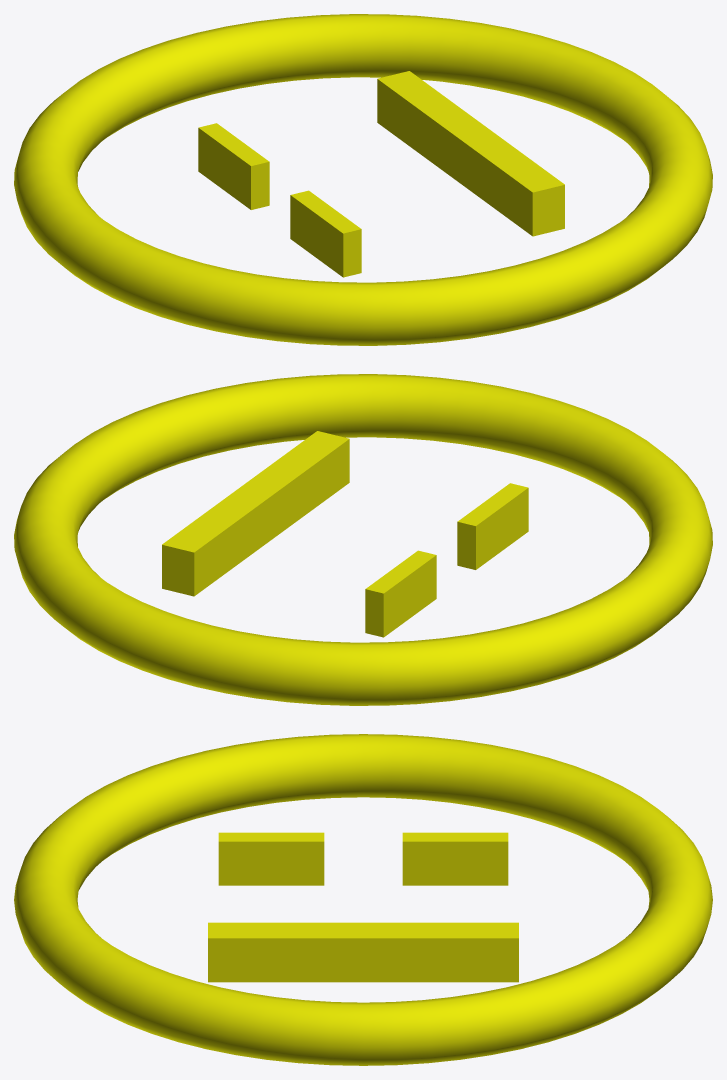
Rendered from Smiley_neutral.fbx.
3 views of the same model, one above another, from view 1: azimuth 30°, elevation 25°; view 2: azimuth 150°, elevation 25°; view 3: azimuth 270°, elevation 25° (orthographic).
Parts seen in each view (by area): view 1: Smiley_Neutral; view 2: Smiley_Neutral; view 3: Smiley_Neutral.
Part boxes in pixels (<box>): Smiley_Neutral: <box>14,14,712,345</box>; Smiley_Neutral: <box>14,374,712,705</box>; Smiley_Neutral: <box>14,734,712,1065</box>.
Bounding box in the file's own units: 220 × 20 × 220.
